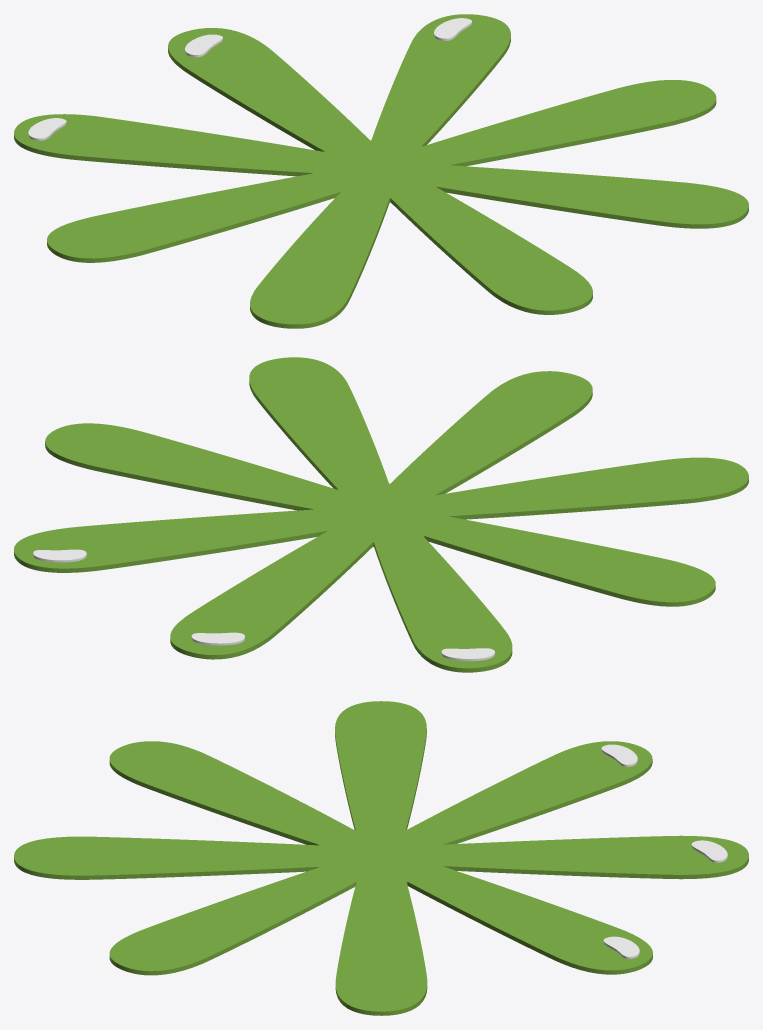
File: emoji_u2733.glb
3 views of the same model, one above another, from view 1: azimuth 30°, elevation 25°; view 2: azimuth 150°, elevation 25°; view 3: azimuth 270°, elevation 25° (orthographic). The views are drawn at different scales.
Visible parts, largest first — view 1: emoji_u2733; view 2: emoji_u2733; view 3: emoji_u2733.
Boxes of the visible parts, box(x1,y1,x2,y2) form: emoji_u2733: box(14, 14, 748, 328); emoji_u2733: box(14, 357, 748, 672); emoji_u2733: box(14, 701, 748, 1015).
Size of the model in its own units: 0.0315 by 0.0004 by 0.0315.
